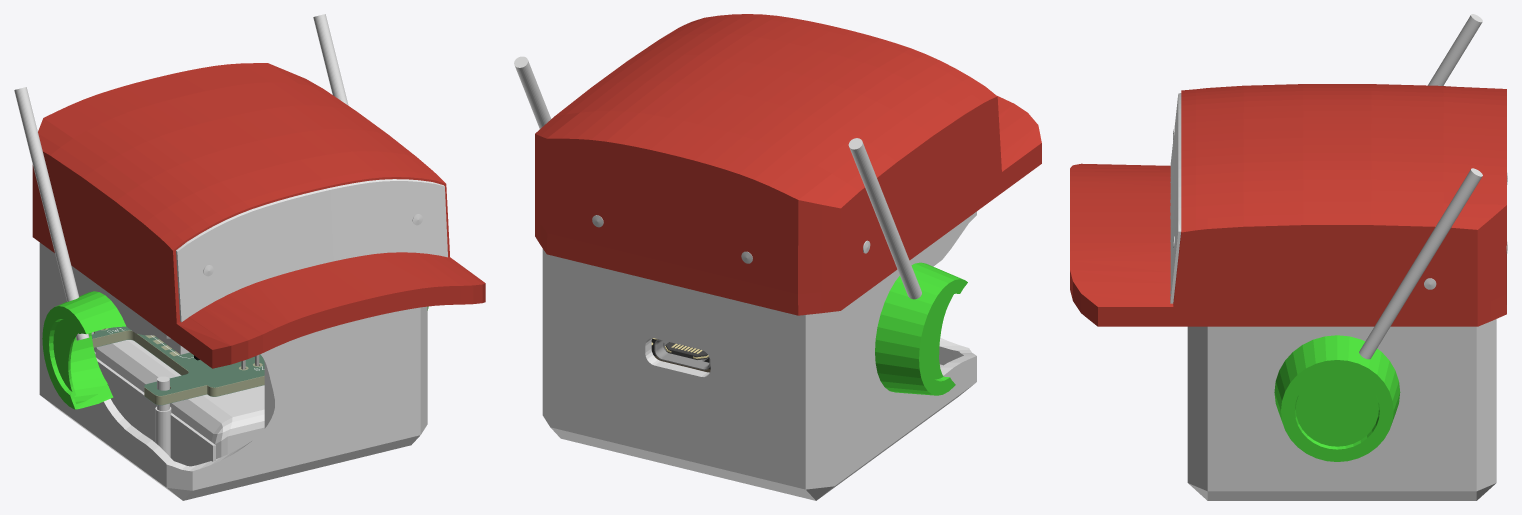
Rendered from quote.glb.
The picture shows the model from 3 angles, left to right: view 1: azimuth 30°, elevation 25°; view 2: azimuth 150°, elevation 25°; view 3: azimuth 270°, elevation 25°; orthographic projection. The views are drawn at different scales.
Parts seen in each view (by area): view 1: Hat, Head, Battery, Cylinder, =>[0:1:1:7], Antennas, Battery holder, =>[0:1:1:5], PCB supports; view 2: Hat, Head, Cylinder, Antennas, CHAMFER9:1; view 3: Hat, Head, Cylinder, Antennas.
Part boxes in pixels (box(x1,y1,x2,y2)): Hat: box(32, 63, 485, 368); Head: box(39, 242, 427, 500); Battery: box(94, 340, 264, 458); Cylinder: box(42, 291, 428, 409); =>[0:1:1:7]: box(92, 327, 264, 404); Antennas: box(14, 14, 348, 340); Battery holder: box(96, 357, 215, 466); =>[0:1:1:5]: box(91, 326, 264, 395); PCB supports: box(94, 352, 171, 456); Hat: box(535, 14, 1041, 315); Head: box(542, 211, 976, 500); Cylinder: box(875, 262, 967, 395); Antennas: box(514, 56, 921, 299); CHAMFER9:1: box(654, 339, 710, 370); Hat: box(1070, 84, 1506, 326); Head: box(1187, 319, 1496, 500); Cylinder: box(1274, 335, 1400, 461); Antennas: box(1359, 14, 1482, 359).
Size of the model in its own units: 0.0596 by 0.0565 by 0.0641.
